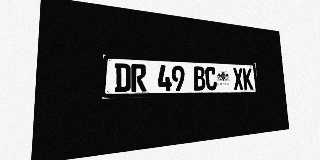4: (158, 65, 172, 91)
9: (171, 65, 185, 91)
B: (193, 66, 206, 91)
C: (205, 67, 217, 90)
D: (114, 63, 131, 92)
K: (242, 68, 253, 90)
R: (131, 64, 146, 92)
X: (233, 68, 244, 90)
